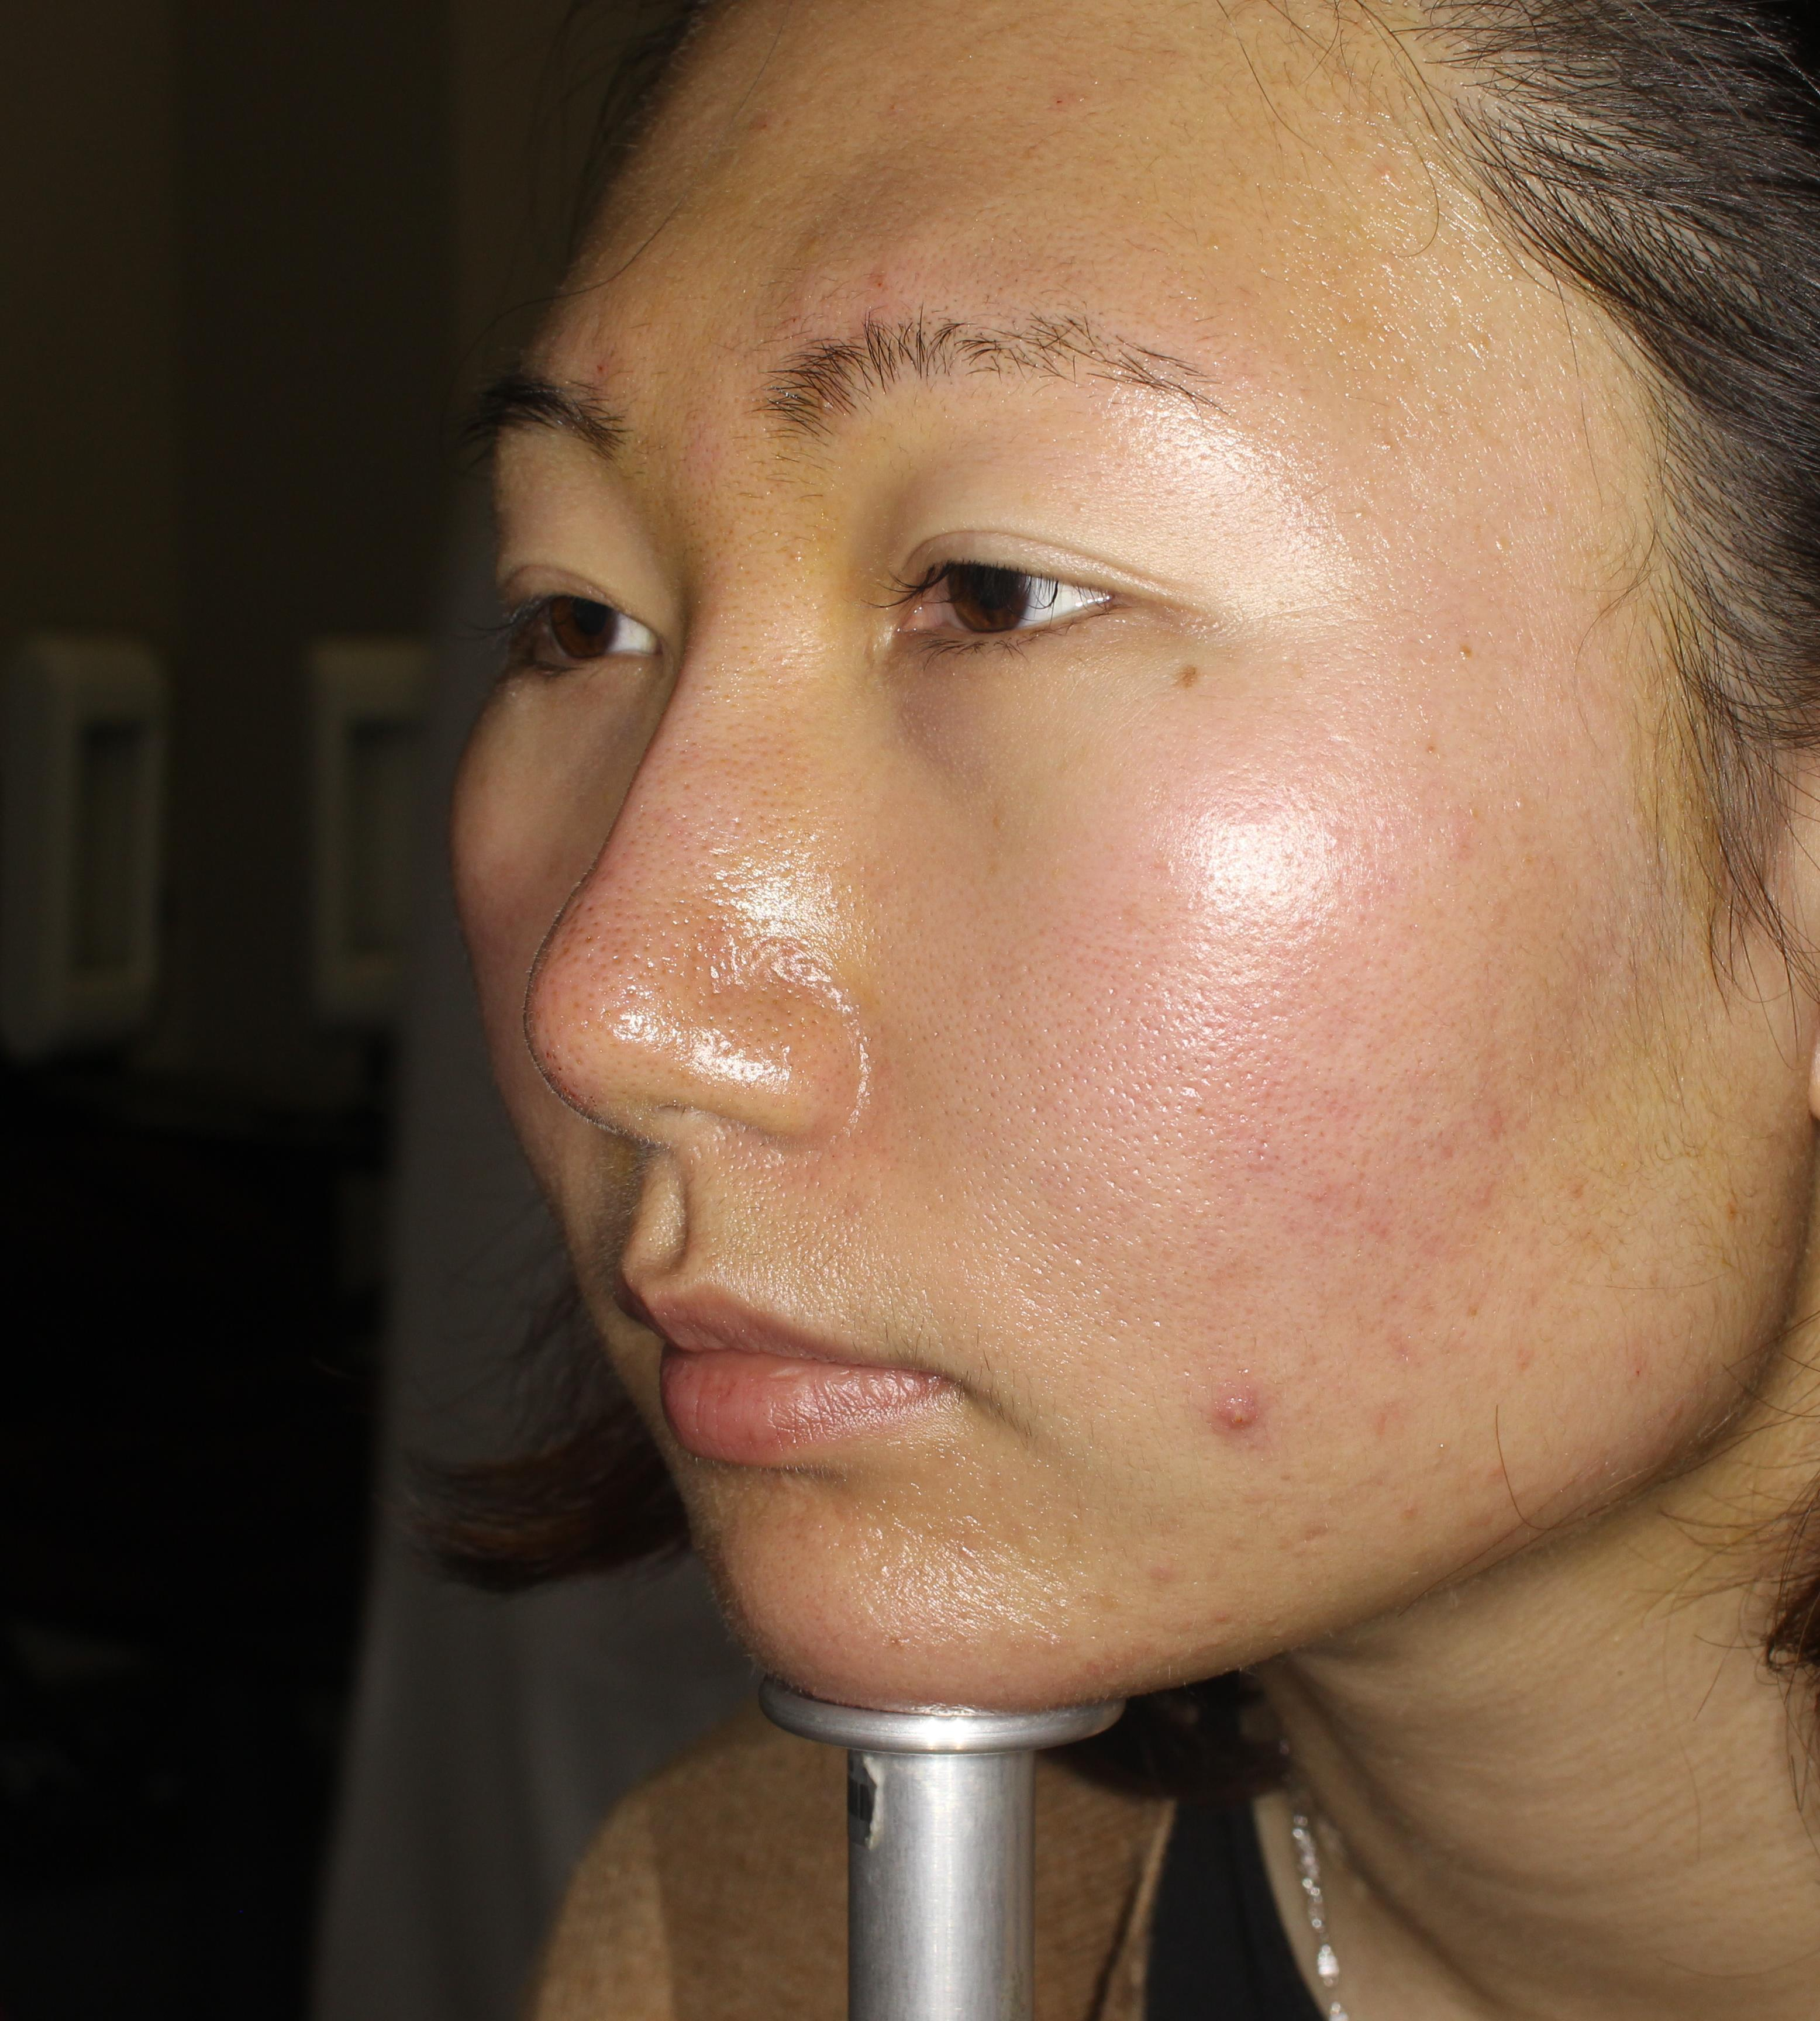fore: (1198, 1366, 1288, 1464)
